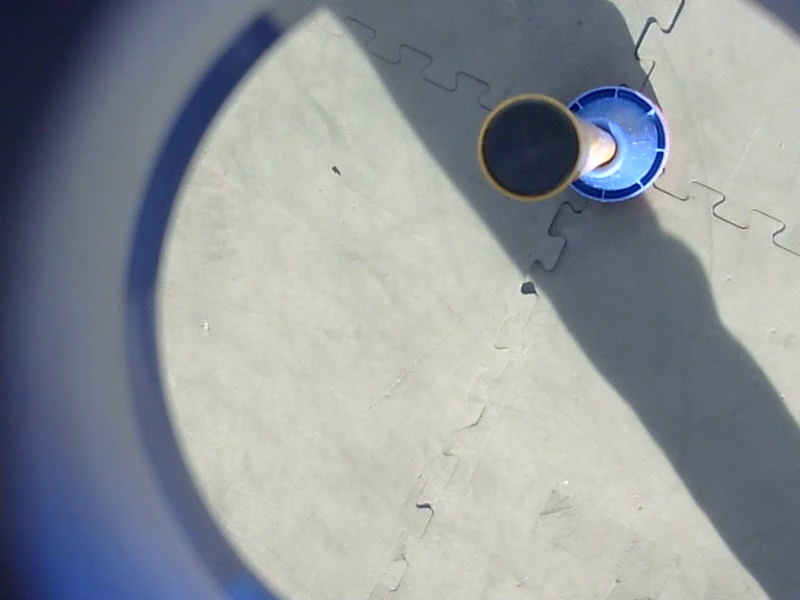tip: (471, 87, 589, 209)
